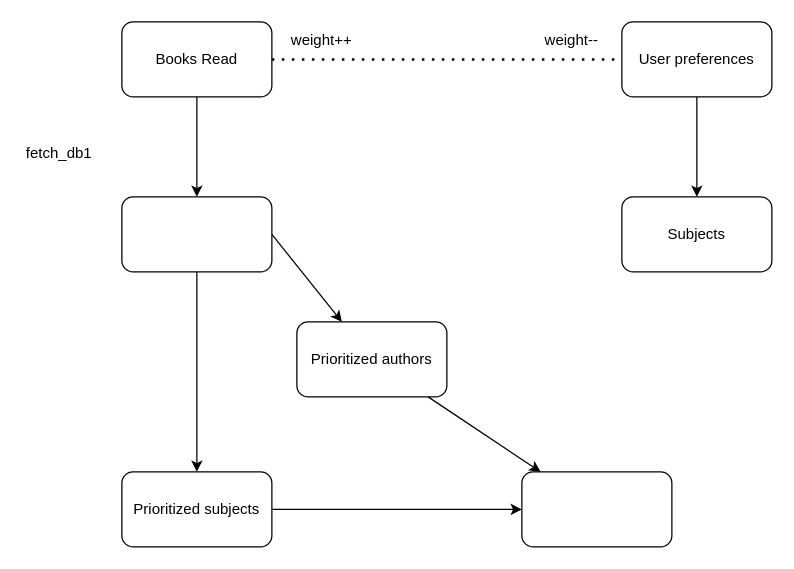
This 794x569 diagram has some shape labels left out. The centre of each missing label's shape, as x and y in pixels:
"Coincidence" belongs at pixel 596 509.
"Ratings" belongs at pixel 196 234.
